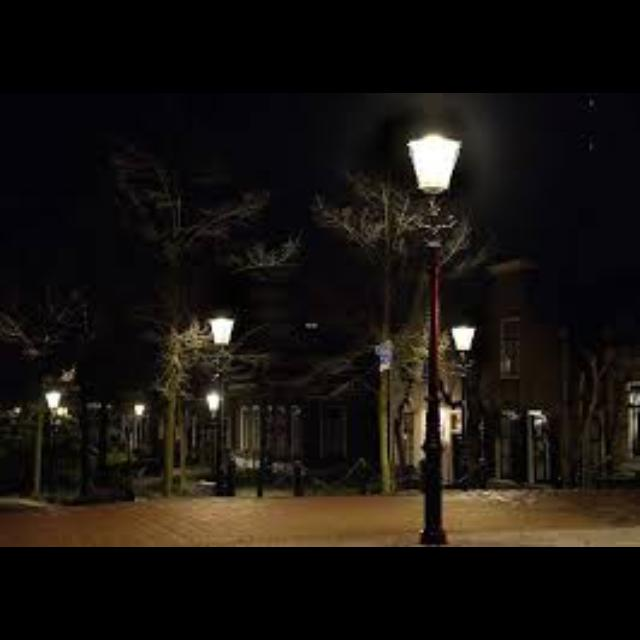Street-Lamp: (392, 117, 464, 547)
